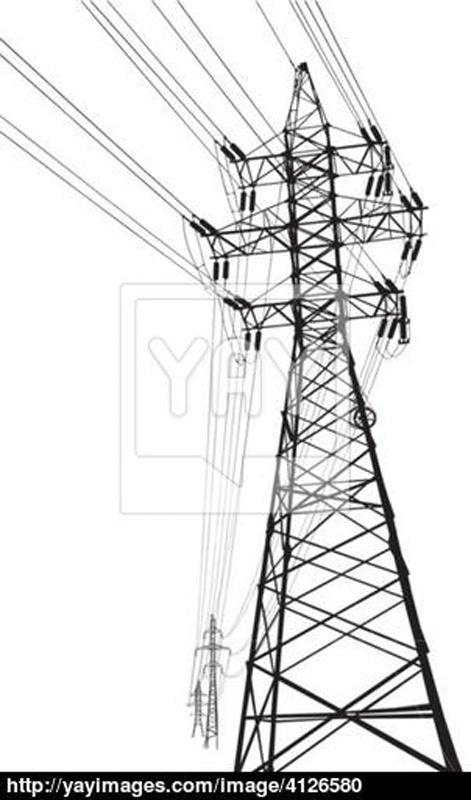power_tower: (188, 59, 464, 772), (192, 612, 232, 748), (184, 680, 210, 739)
